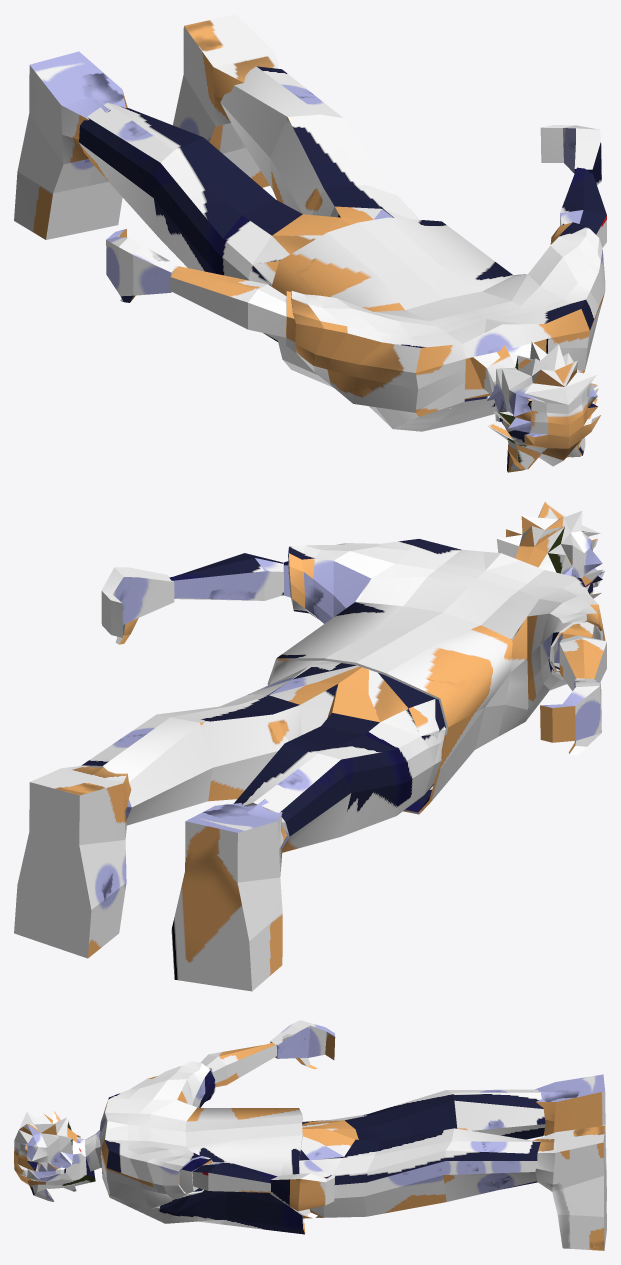
The model's file is scientist.obj.
The picture shows the model from 3 angles, top to bottom: view 1: azimuth 30°, elevation 25°; view 2: azimuth 150°, elevation 25°; view 3: azimuth 270°, elevation 25°; orthographic projection. The views are drawn at different scales.
Visible parts, largest first — view 1: pants; view 2: pants; view 3: pants.
Part boxes in pixels (x1=…): pants: x1=14, y1=14, x2=606, y2=472; pants: x1=14, y1=502, x2=606, y2=991; pants: x1=14, y1=1020, x2=606, y2=1250.
Size of the model in its own units: 19.96 by 6.85 by 31.49.
